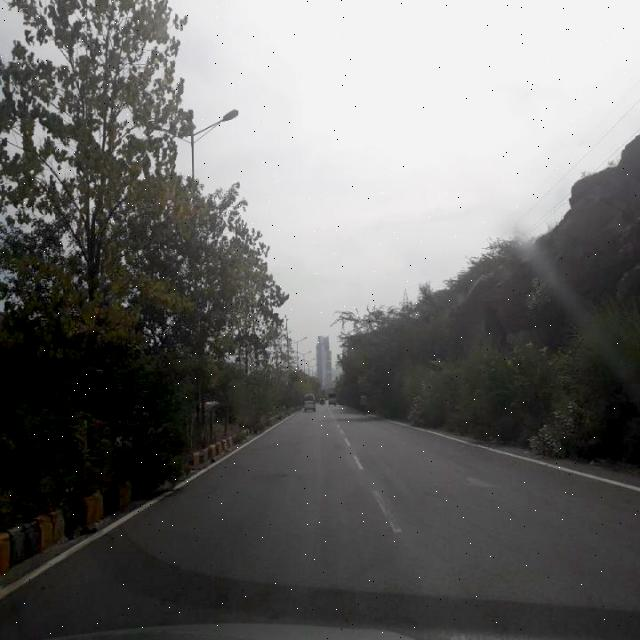D44: (368, 482, 411, 538)
